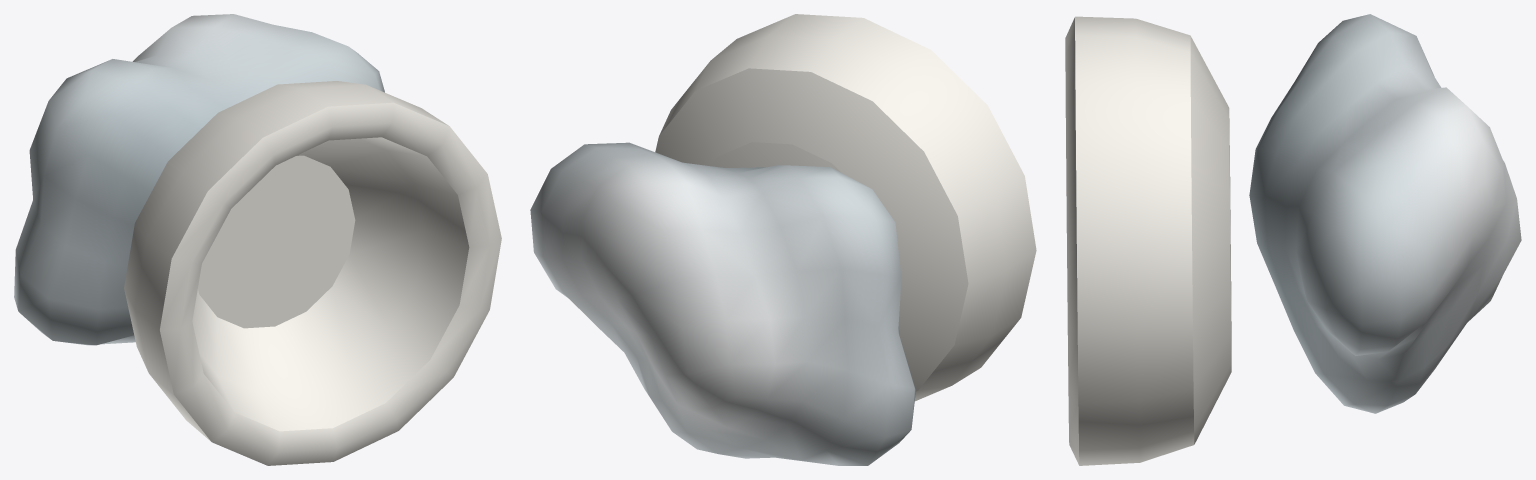
File: hat_chef.glb
3 views of the same model, side by side, from view 1: azimuth 30°, elevation 25°; view 2: azimuth 150°, elevation 25°; view 3: azimuth 270°, elevation 25° (orthographic). The views are drawn at different scales.
Visible parts, largest first — view 1: Hat_hat_chef_bowl, Hat_hat_chef_cloud_small; view 2: Hat_hat_chef_cloud_small, Hat_hat_chef_bowl; view 3: Hat_hat_chef_cloud_small, Hat_hat_chef_bowl.
Part boxes in pixels (bbox=[...]): Hat_hat_chef_bowl: bbox=[124, 81, 501, 465]; Hat_hat_chef_cloud_small: bbox=[14, 14, 384, 345]; Hat_hat_chef_cloud_small: bbox=[530, 142, 915, 465]; Hat_hat_chef_bowl: bbox=[655, 14, 1036, 401]; Hat_hat_chef_cloud_small: bbox=[1249, 14, 1521, 413]; Hat_hat_chef_bowl: bbox=[1065, 16, 1231, 465].
Bounding box in the file's own units: 0.5803 × 0.5472 × 0.5555.
2 materials, 1 textured.
